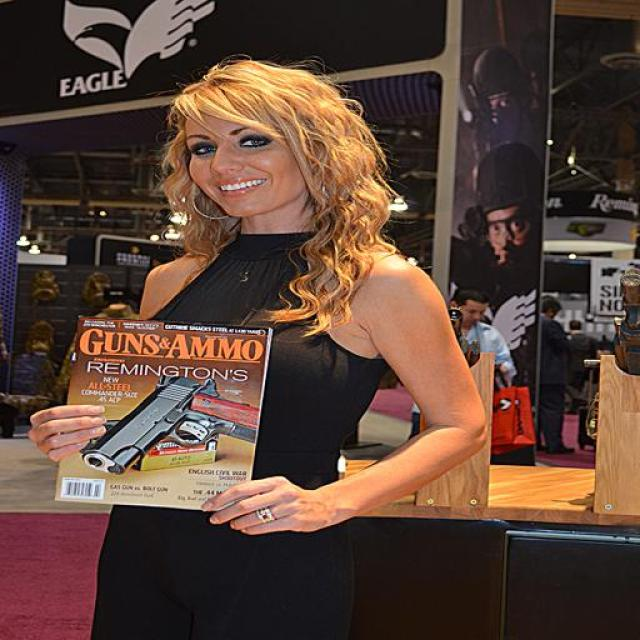pistol: (78, 377, 219, 480)
